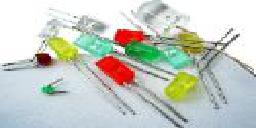LED: (94, 54, 138, 96), (165, 72, 201, 102), (46, 36, 77, 68), (124, 39, 161, 62), (112, 28, 148, 43)
